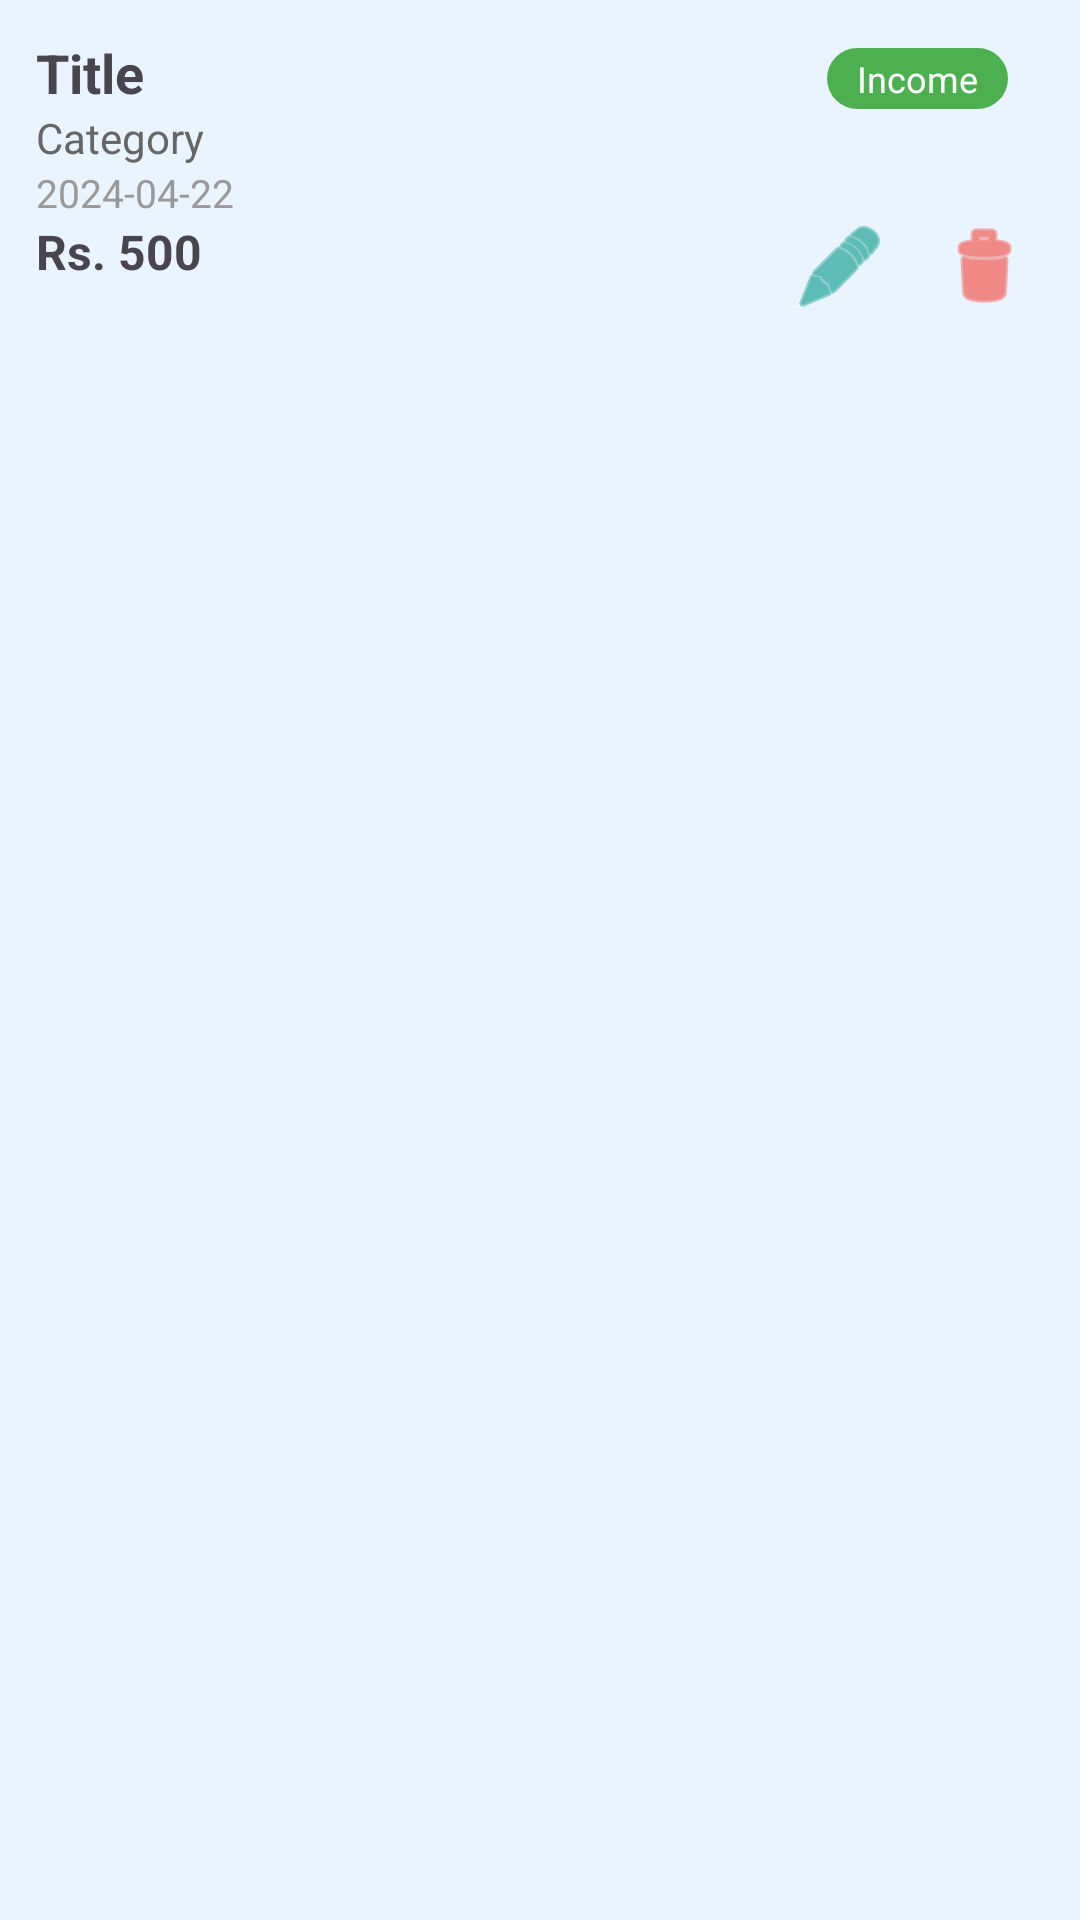

Named icons in this screenshot (1080*1920) and their centers, point (x, y):
Delete: point (984, 265)
Edit: point (839, 266)
